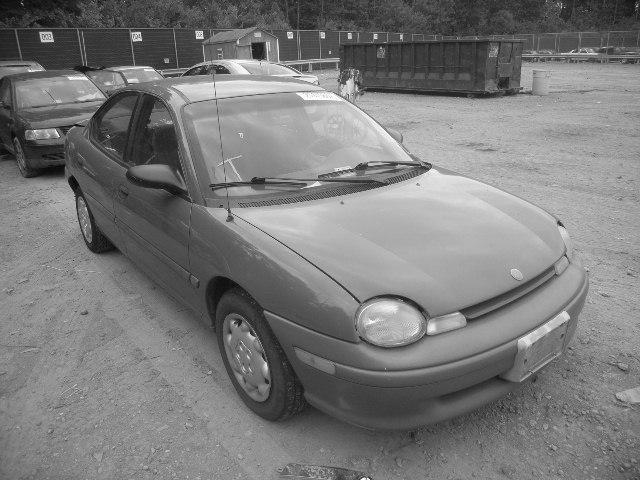car: (67, 73, 590, 437)
